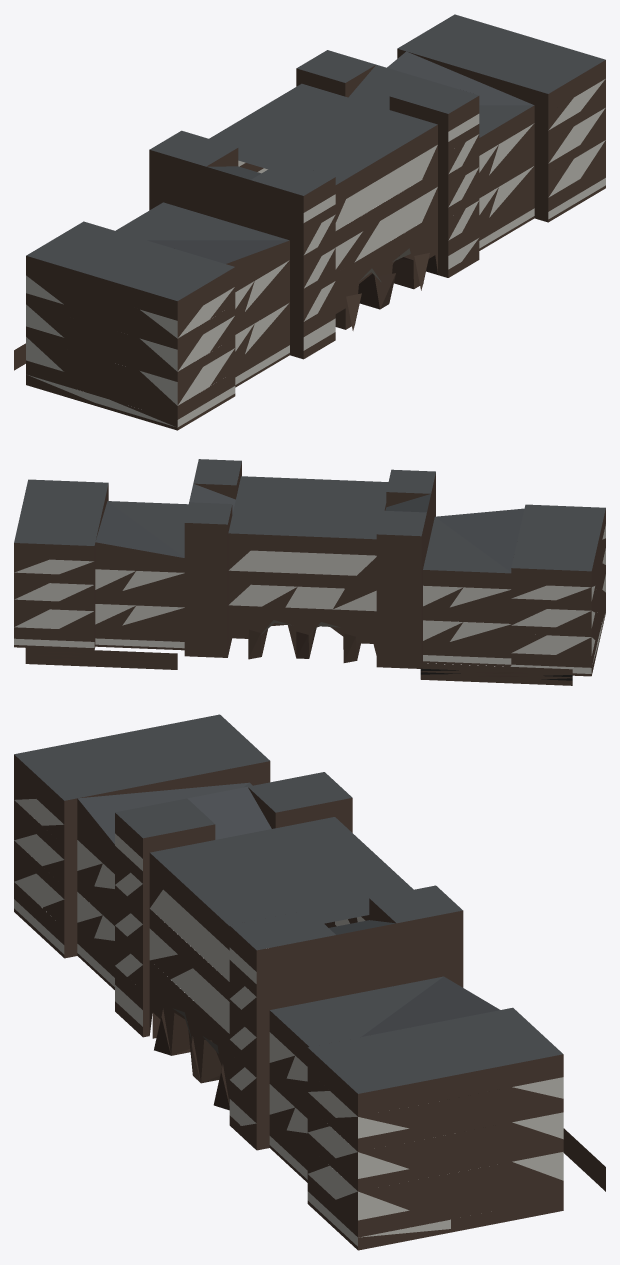
The model's file is amsterdams-lyceum.lod2.glb.
3 renders of one model, top to bottom at view 1: azimuth 30°, elevation 25°; view 2: azimuth 150°, elevation 25°; view 3: azimuth 270°, elevation 25°, orthographic. The views are drawn at different scales.
Parts seen in each view (by area): view 1: lod2; view 2: lod2; view 3: lod2.
Part boxes in pixels (box(x1,y1,x2,y2)): lod2: box(14, 14, 605, 430); lod2: box(14, 459, 605, 685); lod2: box(14, 714, 605, 1250).
Size of the model in its own units: 78.27 by 19.29 by 51.74.
